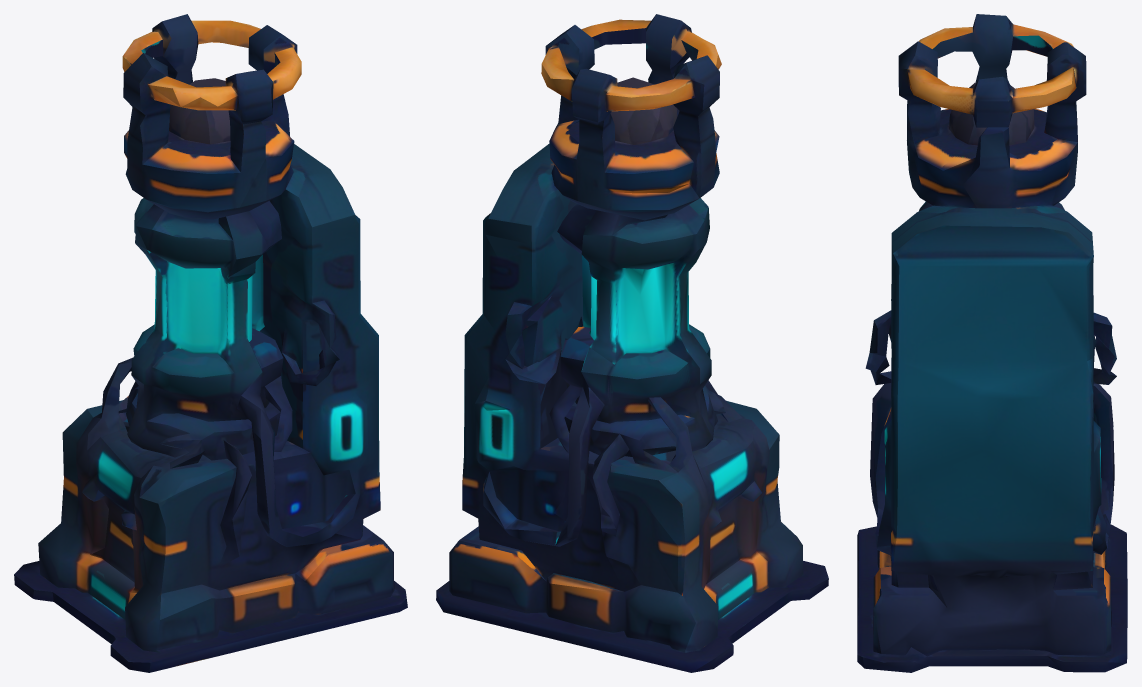
The model's file is NewBG5.fbx.
3 renders of one model, left to right at view 1: azimuth 30°, elevation 25°; view 2: azimuth 150°, elevation 25°; view 3: azimuth 270°, elevation 25°, orthographic.
Visible parts, largest first — view 1: tmp1srm8q8p.ply; view 2: tmp1srm8q8p.ply; view 3: tmp1srm8q8p.ply.
Part boxes in pixels (box(x1,y1,x2,y2)): tmp1srm8q8p.ply: box(14, 14, 407, 672); tmp1srm8q8p.ply: box(436, 14, 828, 672); tmp1srm8q8p.ply: box(857, 14, 1127, 672).
Size of the model in its own units: 107 by 200 by 87.88.
Materials: 1 (1 with a texture image).
